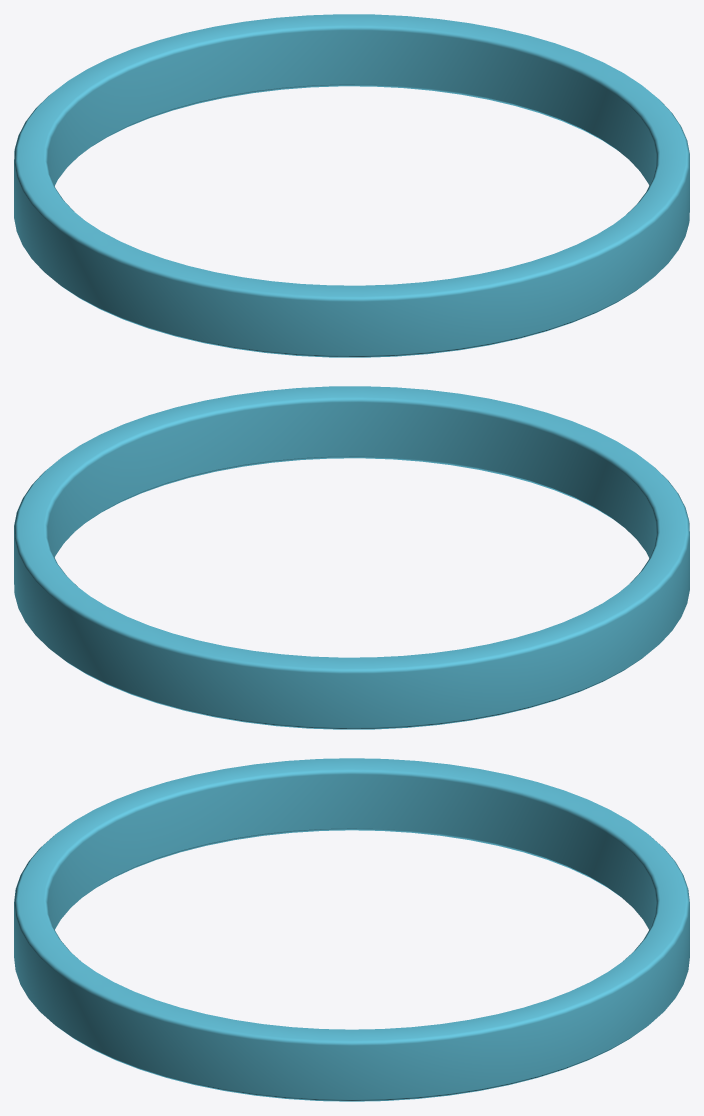
The picture shows the model from 3 angles, top to bottom: view 1: azimuth 30°, elevation 25°; view 2: azimuth 150°, elevation 25°; view 3: azimuth 270°, elevation 25°; orthographic projection.
Parts seen in each view (by area): view 1: seal_body; view 2: seal_body; view 3: seal_body.
Boxes of the visible parts, box(x1,y1,x2,y2) form: seal_body: box(14, 14, 689, 357); seal_body: box(14, 386, 689, 729); seal_body: box(14, 758, 689, 1101).
Bounding box in the file's own units: 0.0635 × 0.00635 × 0.0635.
